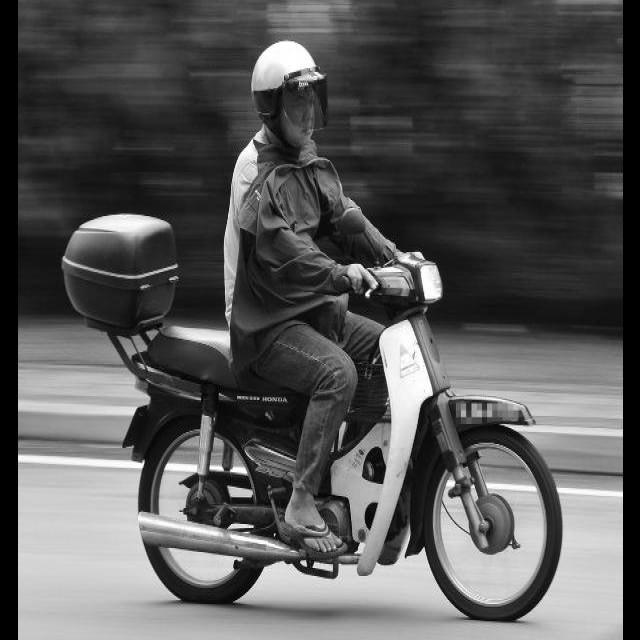5_casco: (248, 33, 330, 151)
